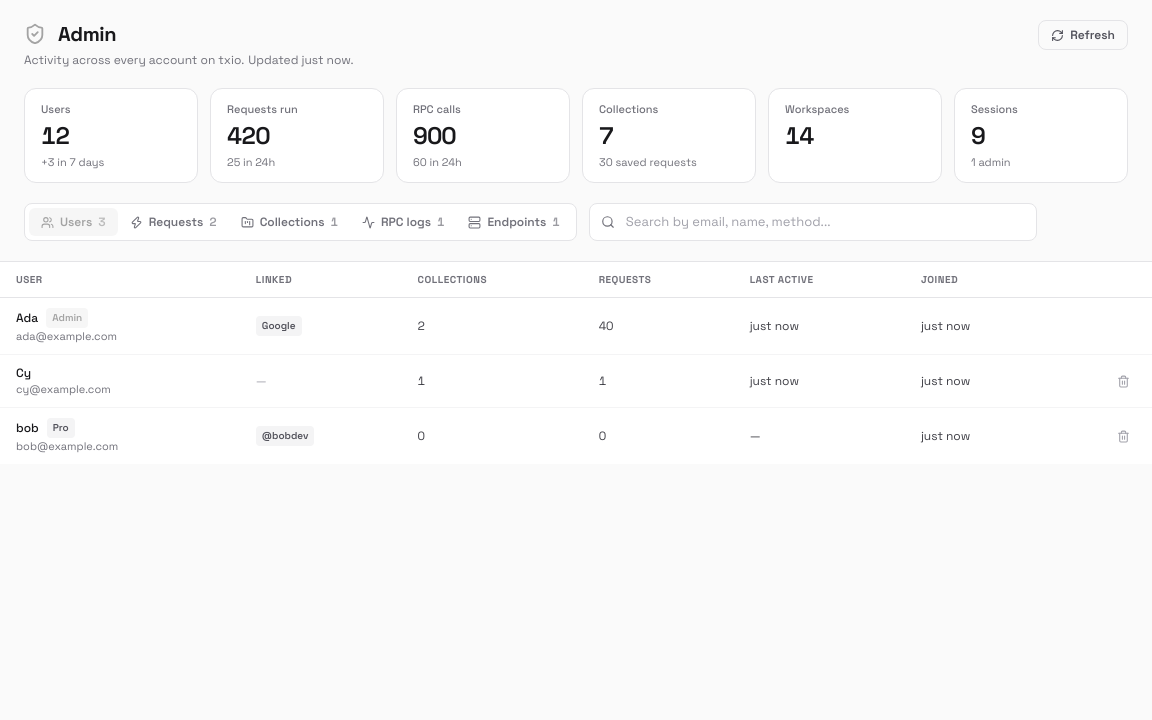
it: AdminPage user deletion › requires typing the email before deleting, then refreshes the data
This screenshot has width=1152, height=720.
Check: the text "ada@example.com" is shown, box [16,329,117,343]
Step 1. Click the button named "Delete cy@example.com" → {"x": 1124, "y": 381}, box [1111,368,1136,394]
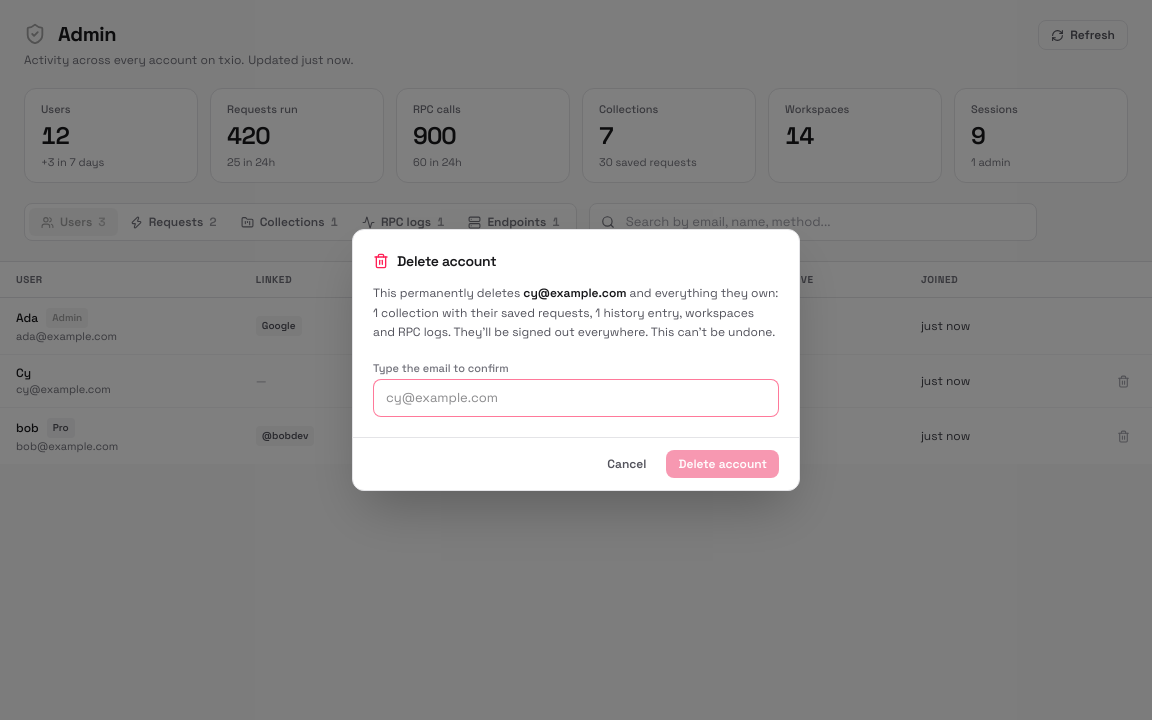
Check: the dialog shows "1 collection with", box [352,229,800,491]
Check: the dialog shows "1 history entry", box [352,229,800,491]
Check: the button "Delete account" is disabled, box [666,450,779,478]
Step 2. Type "wrong@example.com" into the field with placeholder "cy@example.com" → {"x": 576, "y": 398}, box [373,379,779,417]
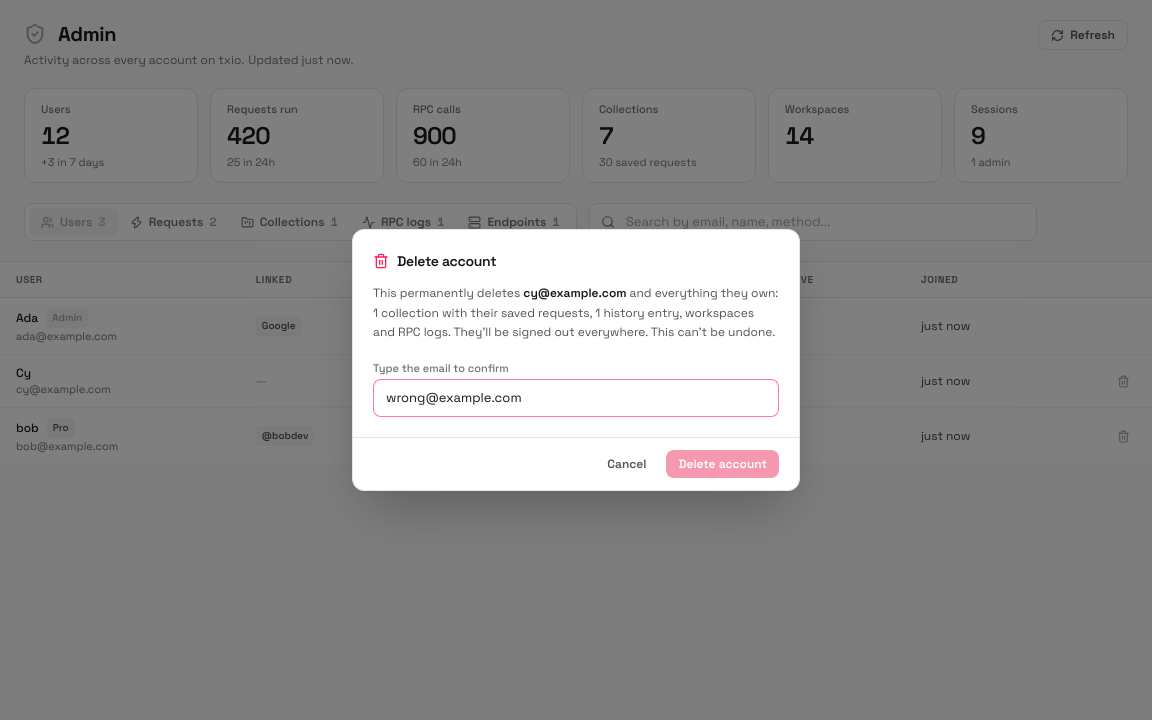
Check: the button "Delete account" is disabled, box [666,450,779,478]
Step 3. Replace the text in the field with placeholder "cy@example.com" with " CY@example.com " → {"x": 576, "y": 398}, box [373,379,779,417]
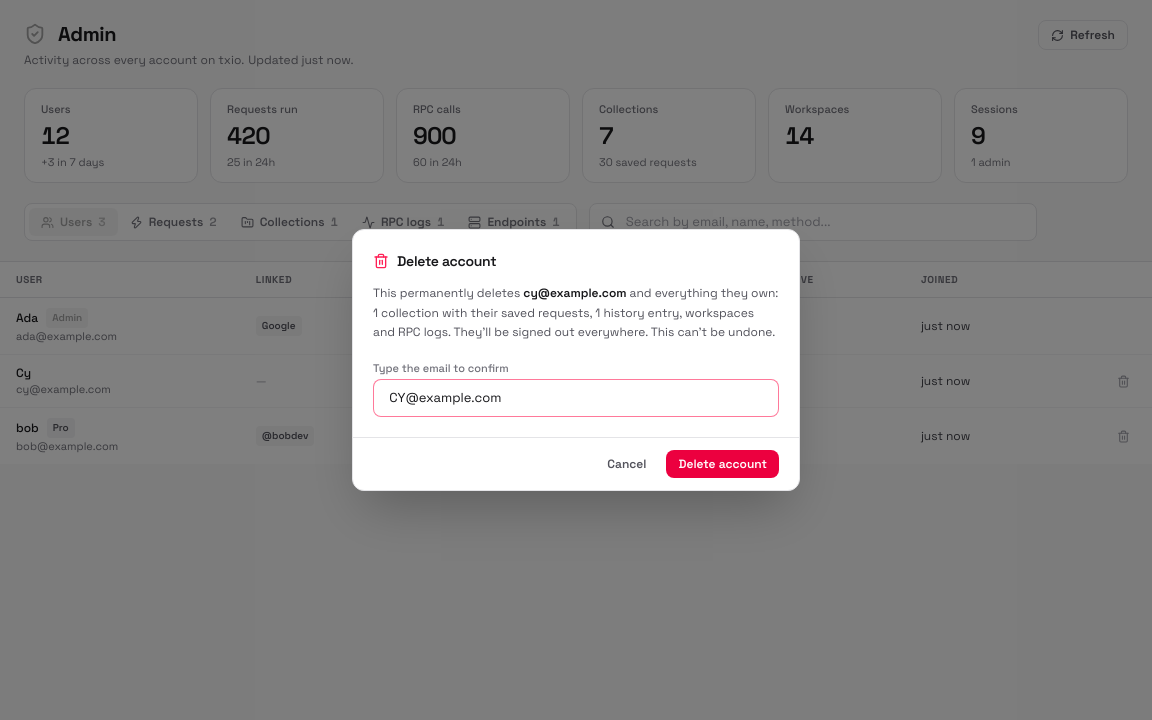
Check: the button "Delete account" is enabled
Step 4. Click the button "Delete account" → {"x": 723, "y": 464}, box [666,450,779,478]
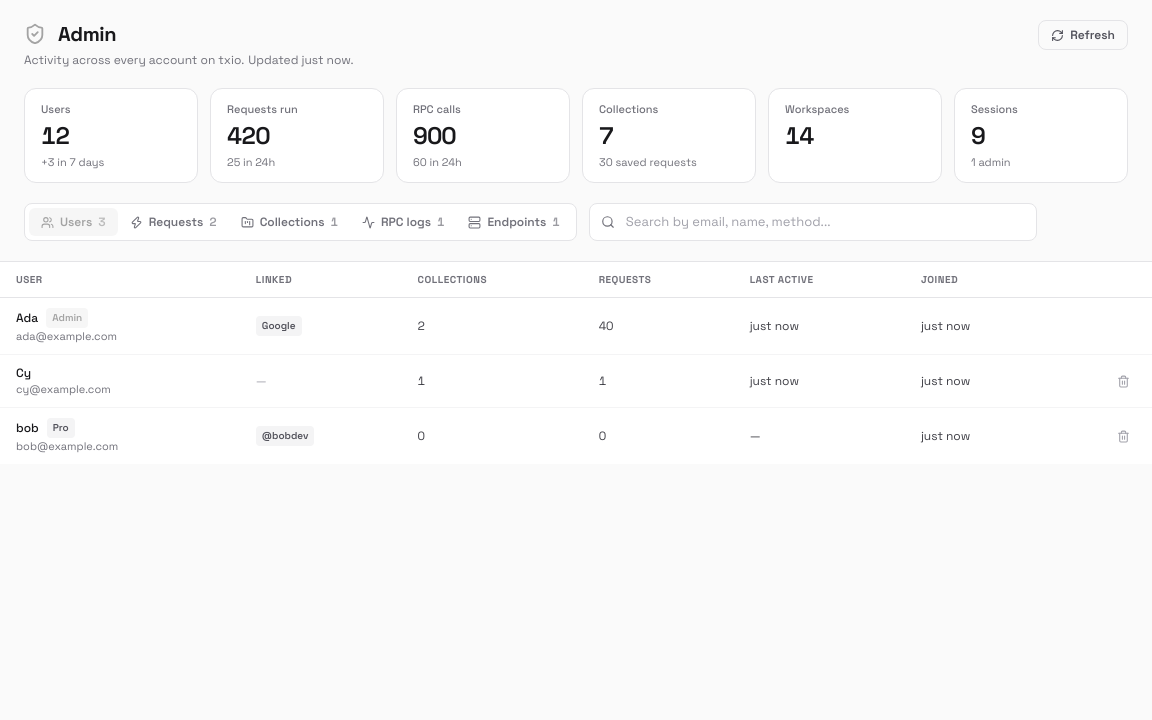
Check: the dialog is gone
